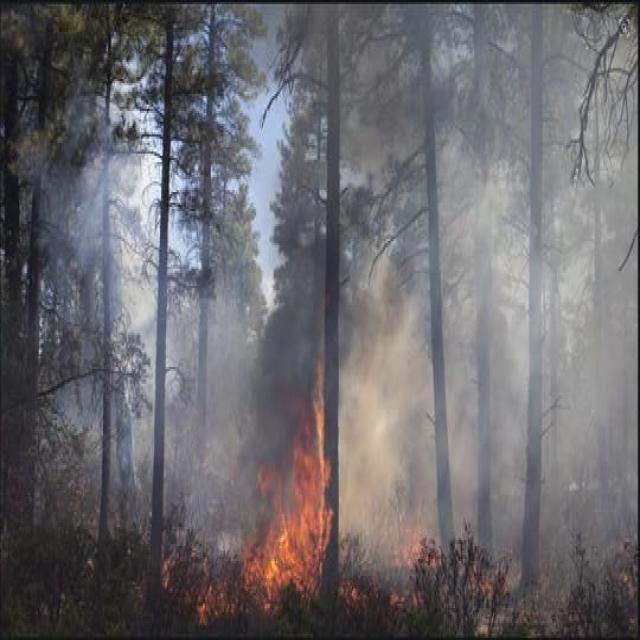Fire: (195, 406, 352, 634)
Smoke: (358, 292, 430, 543)
